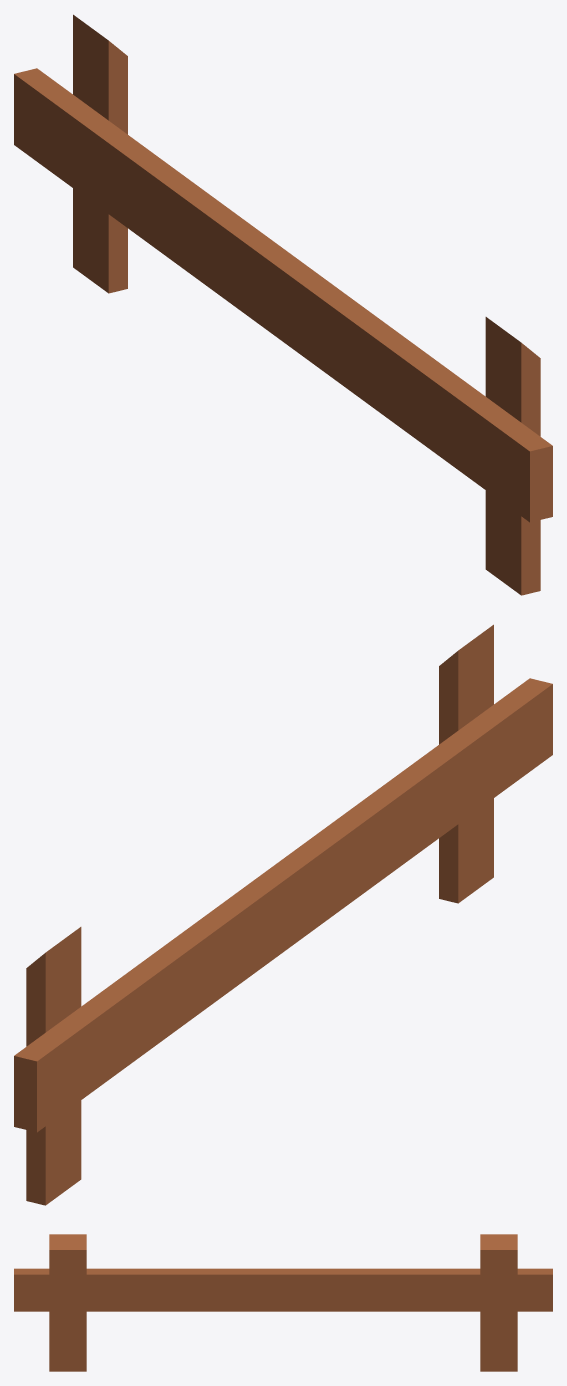
File: fence_02.fbx
3 renders of one model, top to bottom at view 1: azimuth 30°, elevation 25°; view 2: azimuth 150°, elevation 25°; view 3: azimuth 270°, elevation 25°, orthographic. The views are drawn at different scales.
Parts seen in each view (by area): view 1: fence_02; view 2: fence_02; view 3: fence_02.
Part boxes in pixels (x1,y1,x2,y2): fence_02: (14,14,552,595); fence_02: (14,624,552,1205); fence_02: (14,1234,552,1371).
Bounding box in the file's own units: 0.1992 × 1.08 × 4.
